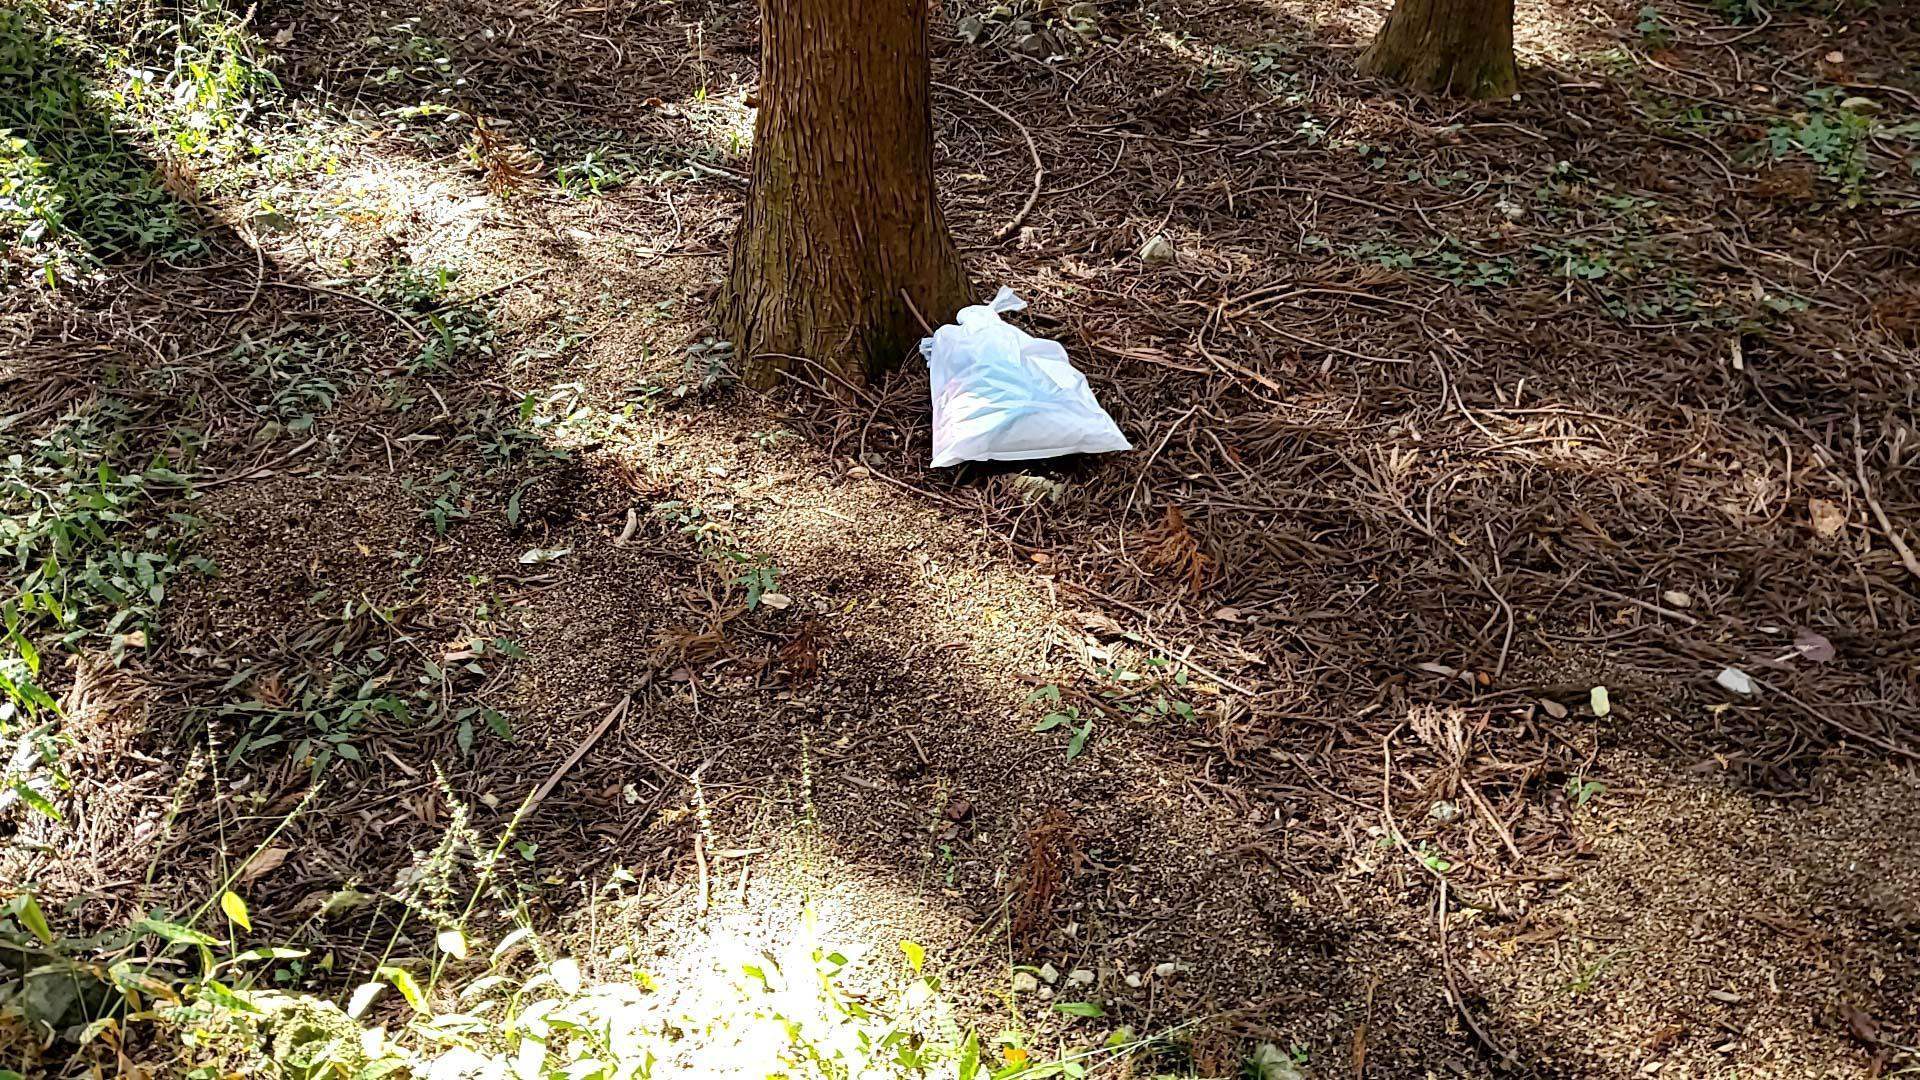white_bag: (897, 272, 1142, 485)
